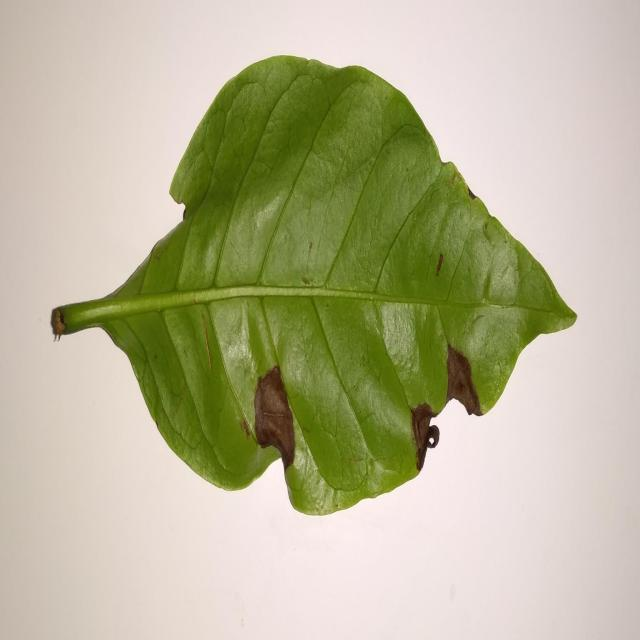Enfermedad-Antracnosis: (49, 56, 578, 520)
